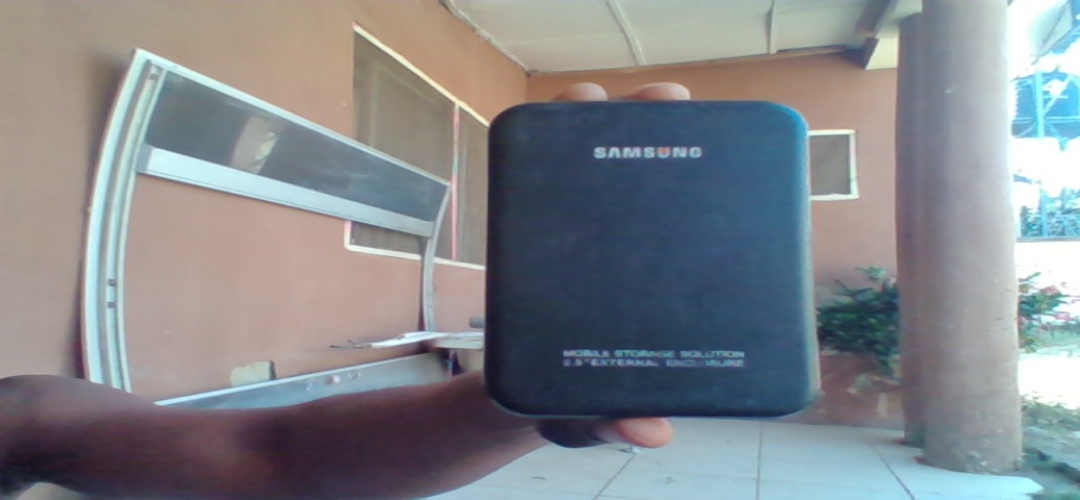hard_disk_case: (485, 104, 820, 417)
